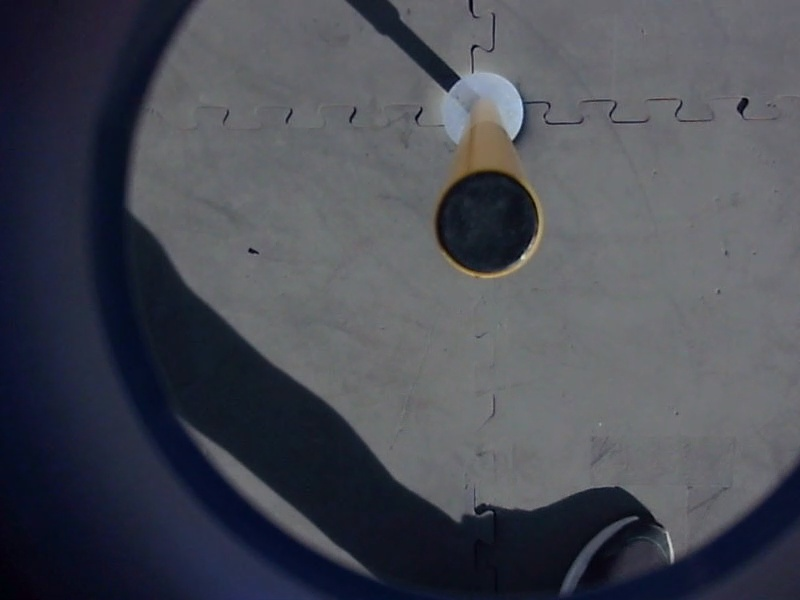tip: (425, 162, 550, 289)
